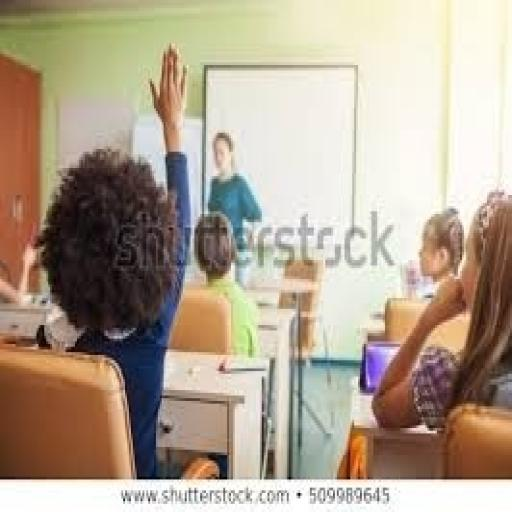sitting: (29, 40, 194, 476), (370, 187, 510, 433), (181, 208, 262, 358)
